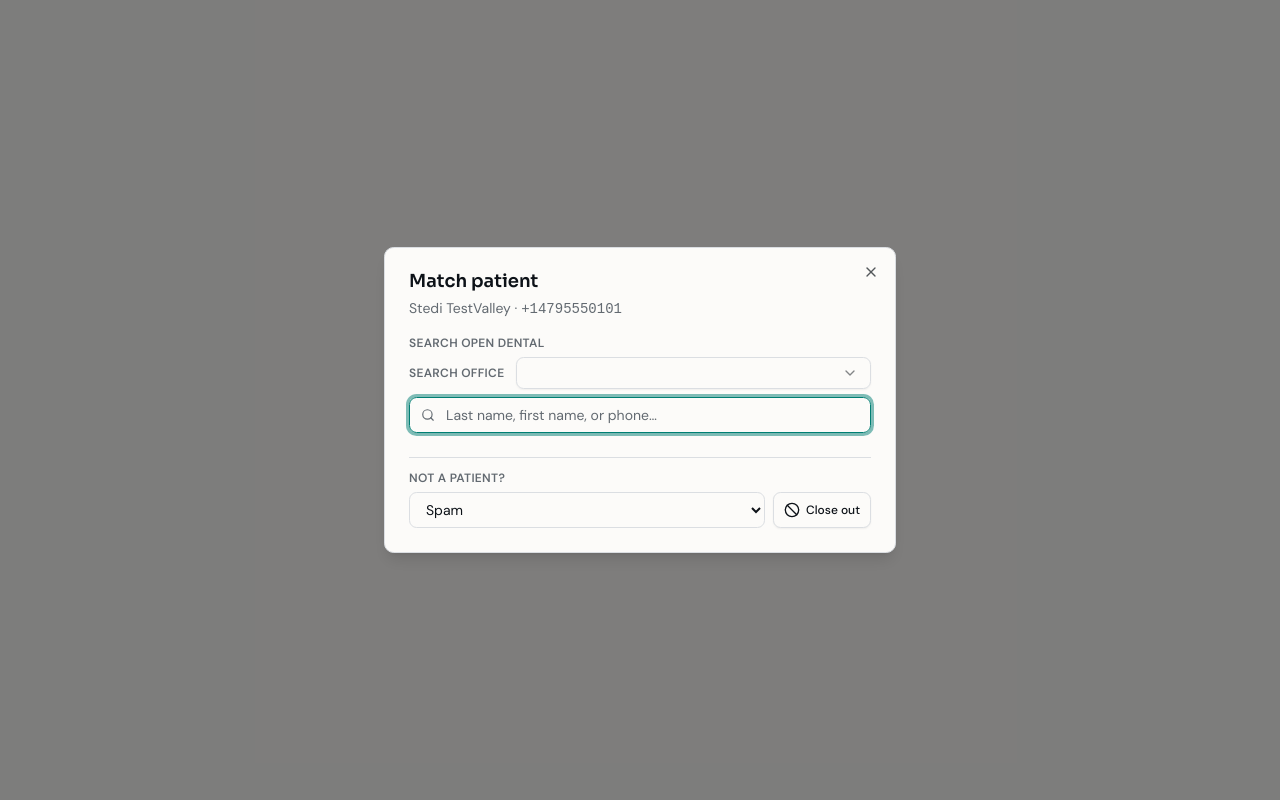
Test: Pick Patient modal — office visibility › names the office whose patients it searched
Type "TestValley" into the field with placeholder "Last name, first name, or phone…" at (640, 415), box top-left (409, 397), bottom-right (871, 433)
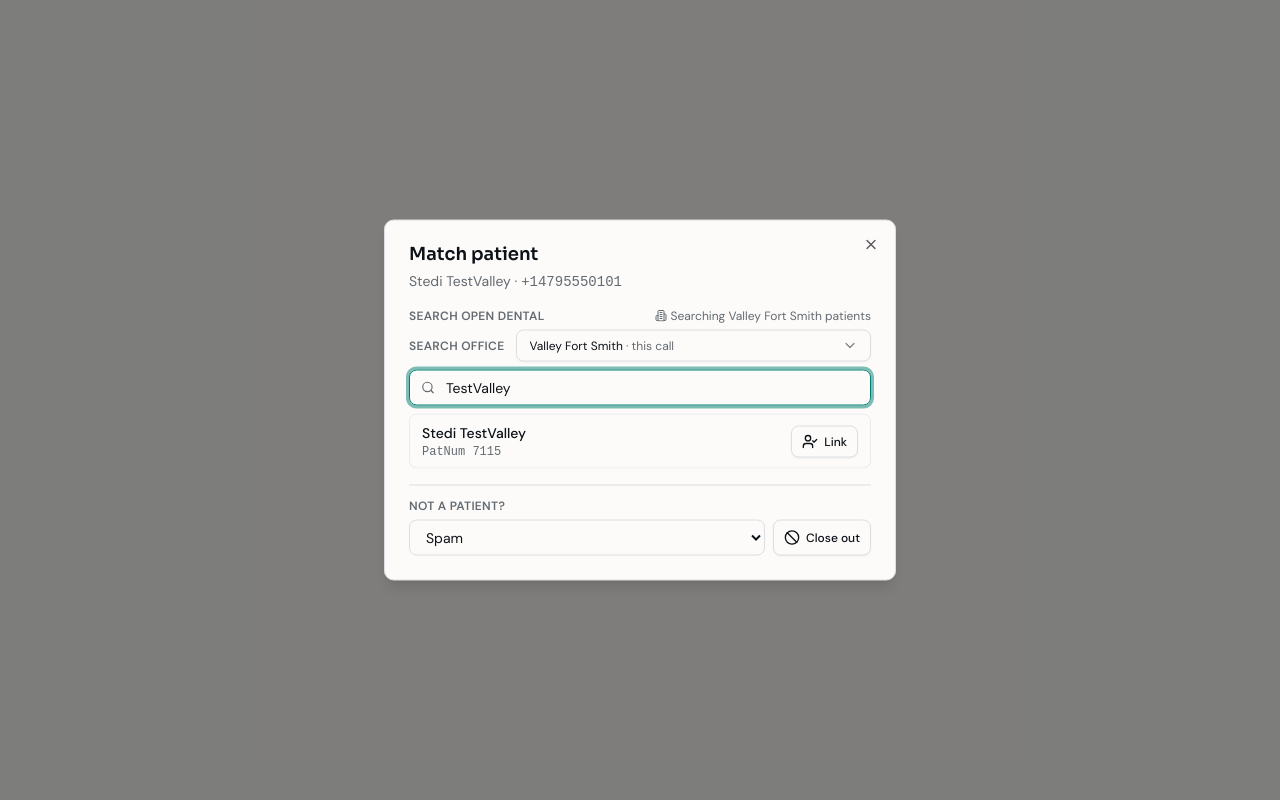
Now the text "Searching Valley Fort Smith patients" is shown, box top-left (670, 308), bottom-right (871, 324)
